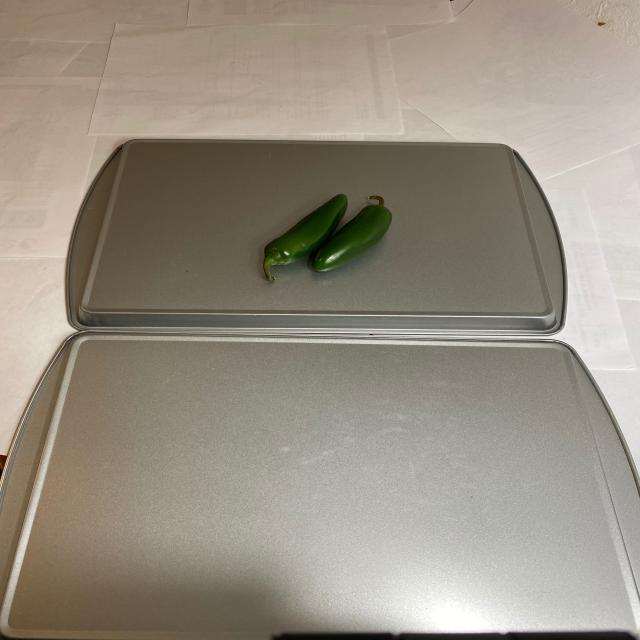chilli: (254, 193, 394, 284)
